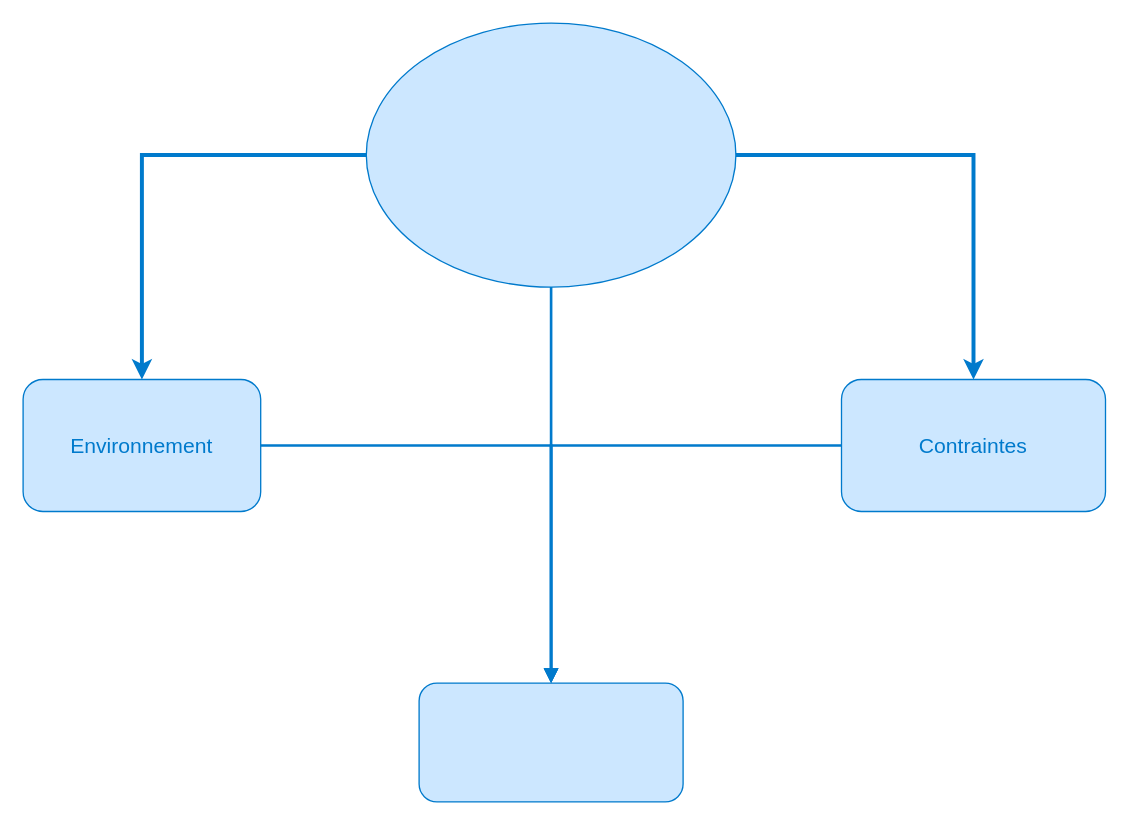
The diagram is 1129 pixels wide and 825 high, and some of its shapes have lost their labels. The shapes that lost their labels are listed below. From the top down, each one's centre as x and y in pixels, then its label:
At point (550, 154): "Convoyeur".
At point (550, 742): "Besoins".
